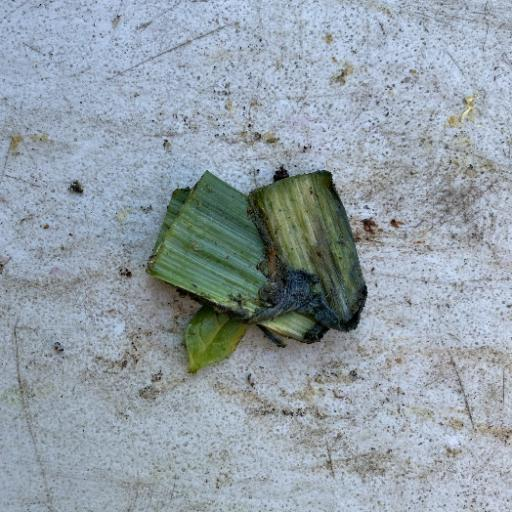Waste: (144, 166, 368, 374)
